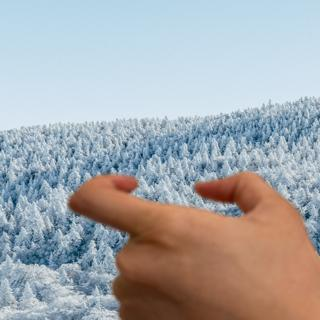HATE: (58, 161, 320, 320)
